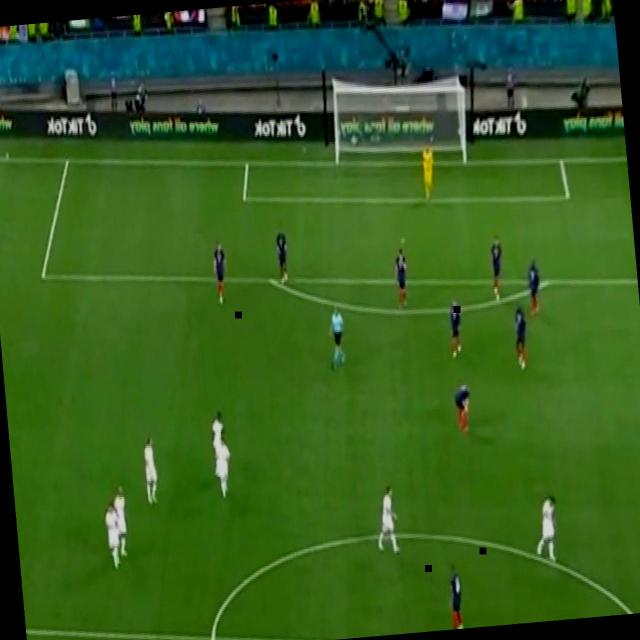player-white: (531, 494, 564, 566), (372, 483, 402, 557), (110, 482, 136, 560), (324, 301, 350, 373), (510, 301, 532, 373), (444, 560, 466, 630), (212, 436, 235, 502), (141, 436, 162, 506), (103, 502, 124, 572), (210, 240, 232, 306), (488, 233, 508, 303), (392, 246, 412, 312), (452, 382, 476, 436), (524, 256, 544, 320), (446, 298, 466, 360), (420, 142, 438, 203), (274, 228, 291, 288), (209, 409, 228, 455)
